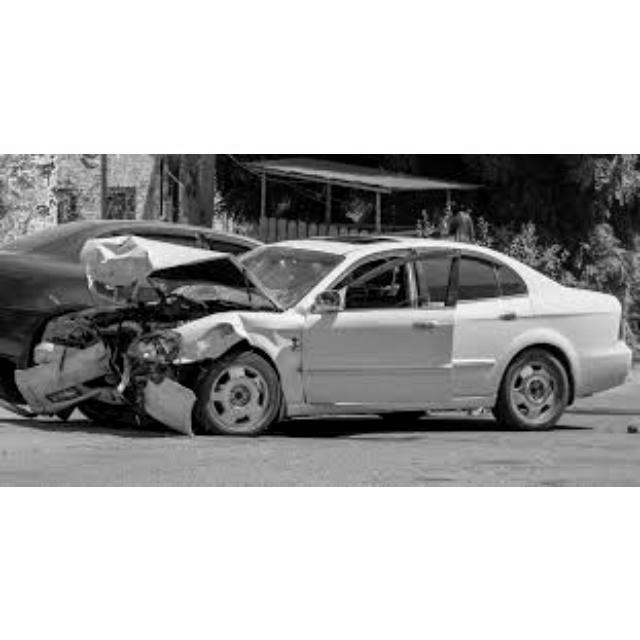Front-windscreen-damage: (203, 242, 340, 299)
Headlight-damage: (36, 316, 93, 349), (137, 329, 185, 366)
bonnet-dent: (87, 241, 262, 330)
fender-dent: (170, 308, 302, 367)
front-bumper-dent: (29, 351, 213, 410)
